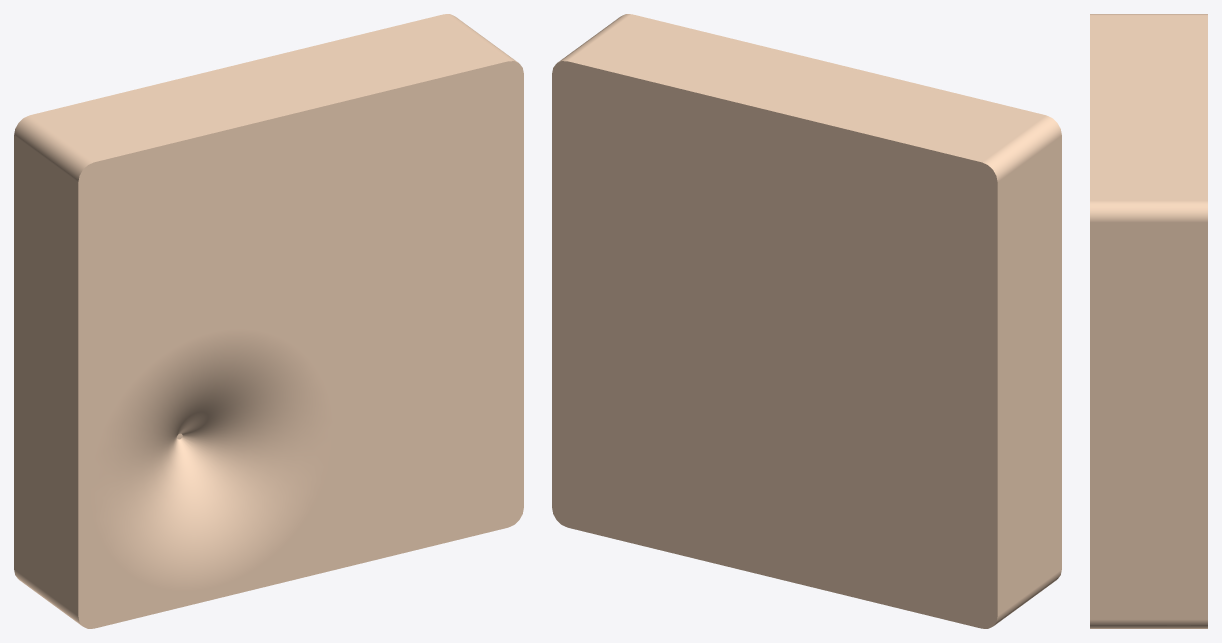
The model's file is Tissue_n40_n40.obj.
The picture shows the model from 3 angles, left to right: view 1: azimuth 30°, elevation 25°; view 2: azimuth 150°, elevation 25°; view 3: azimuth 270°, elevation 25°; orthographic projection. The views are drawn at different scales.
Visible parts, largest first — view 1: mesh 1 Tissue_n40_n40; view 2: mesh 1 Tissue_n40_n40; view 3: mesh 1 Tissue_n40_n40.
Part boxes in pixels (<box>): mesh 1 Tissue_n40_n40: <box>14,14,523,628</box>; mesh 1 Tissue_n40_n40: <box>552,14,1061,628</box>; mesh 1 Tissue_n40_n40: <box>1090,14,1207,628</box>.
Bounding box in the file's own units: 0.2 × 0.2 × 0.05.
